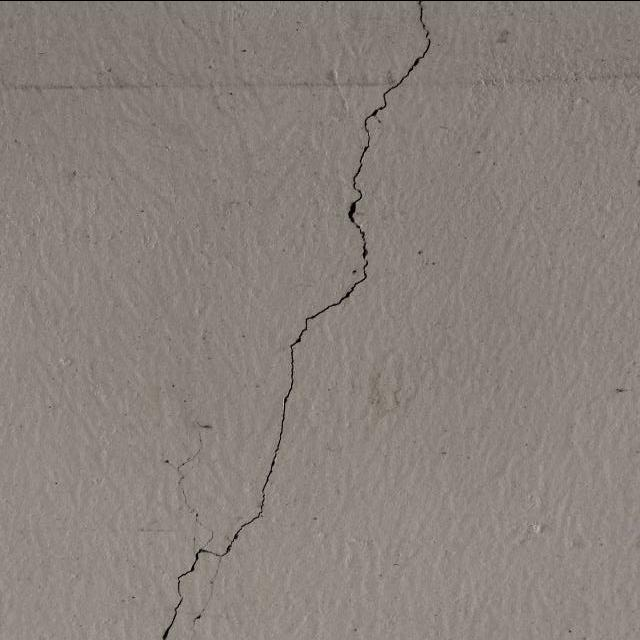SurfaceCrack: (145, 0, 475, 639)
